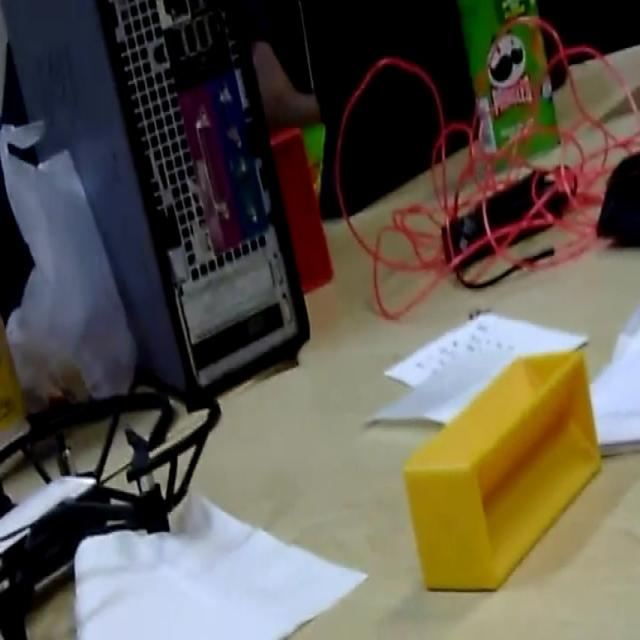red_block: (268, 124, 334, 295)
yellow_block: (401, 347, 602, 592)
